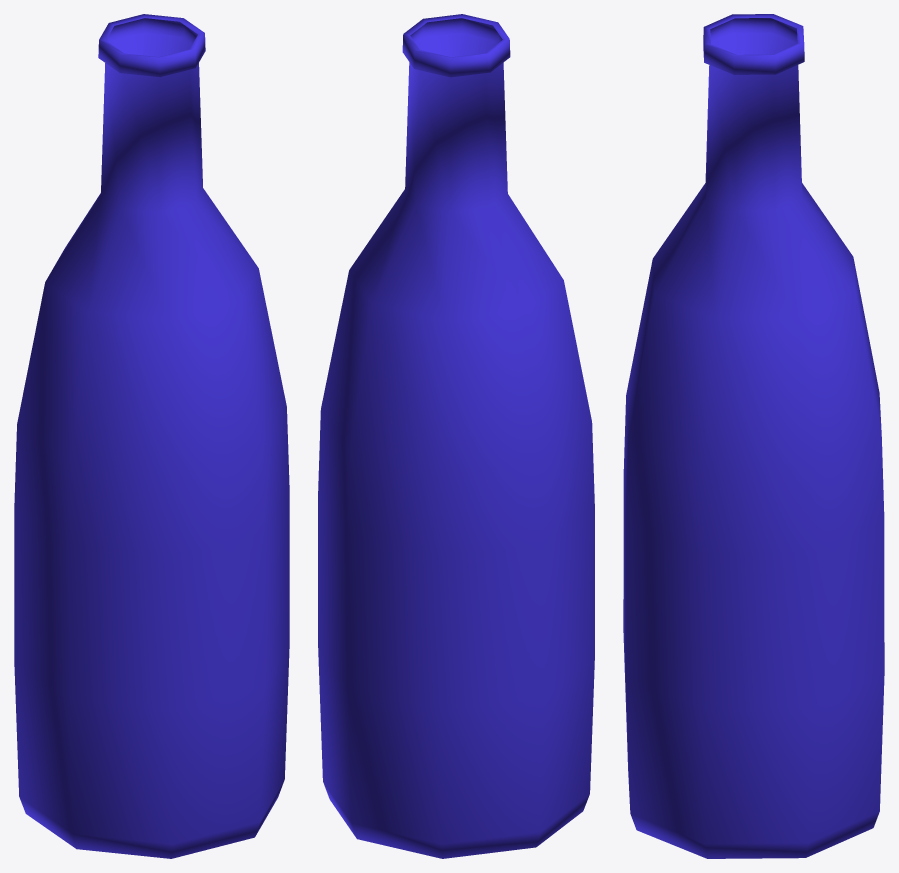
File: bottle_001.fbx
3 views of the same model, side by side, from view 1: azimuth 30°, elevation 25°; view 2: azimuth 150°, elevation 25°; view 3: azimuth 270°, elevation 25° (orthographic).
Parts seen in each view (by area): view 1: bottle.001; view 2: bottle.001; view 3: bottle.001.
Part boxes in pixels (left/top/right/bottom): bottle.001: left=14, top=14, right=289, bottom=858; bottle.001: left=318, top=14, right=594, bottom=858; bottle.001: left=623, top=14, right=884, bottom=858.
Bounding box in the file's own units: 15.01 × 49.05 × 15.01.
